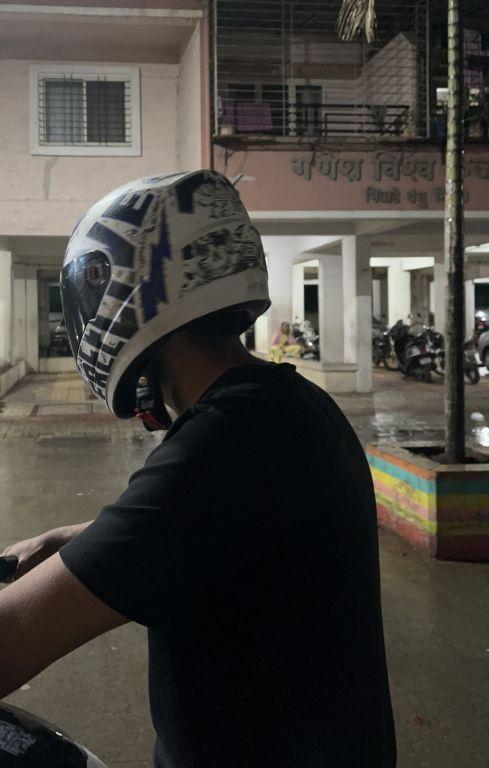helmet: (42, 159, 286, 439)
